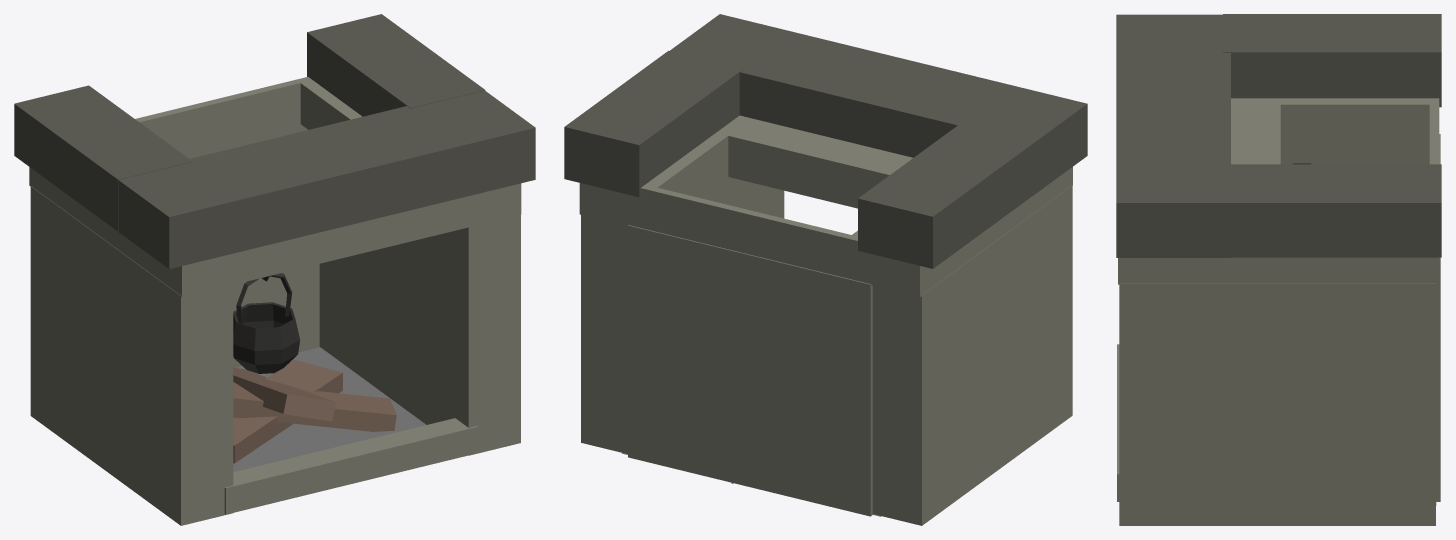
Rendered from hearth_cooking_pot.glb.
3 views of the same model, side by side, from view 1: azimuth 30°, elevation 25°; view 2: azimuth 150°, elevation 25°; view 3: azimuth 270°, elevation 25° (orthographic). The views are drawn at different scales.
Visible parts, largest first — view 1: mesh; view 2: mesh; view 3: mesh.
Boxes of the visible parts, x1=… form: mesh: x1=14, y1=14, x2=535, y2=525; mesh: x1=564, y1=14, x2=1087, y2=525; mesh: x1=1116, y1=14, x2=1441, y2=525.
Size of the model in its own units: 7.78 by 6.63 by 5.67.
